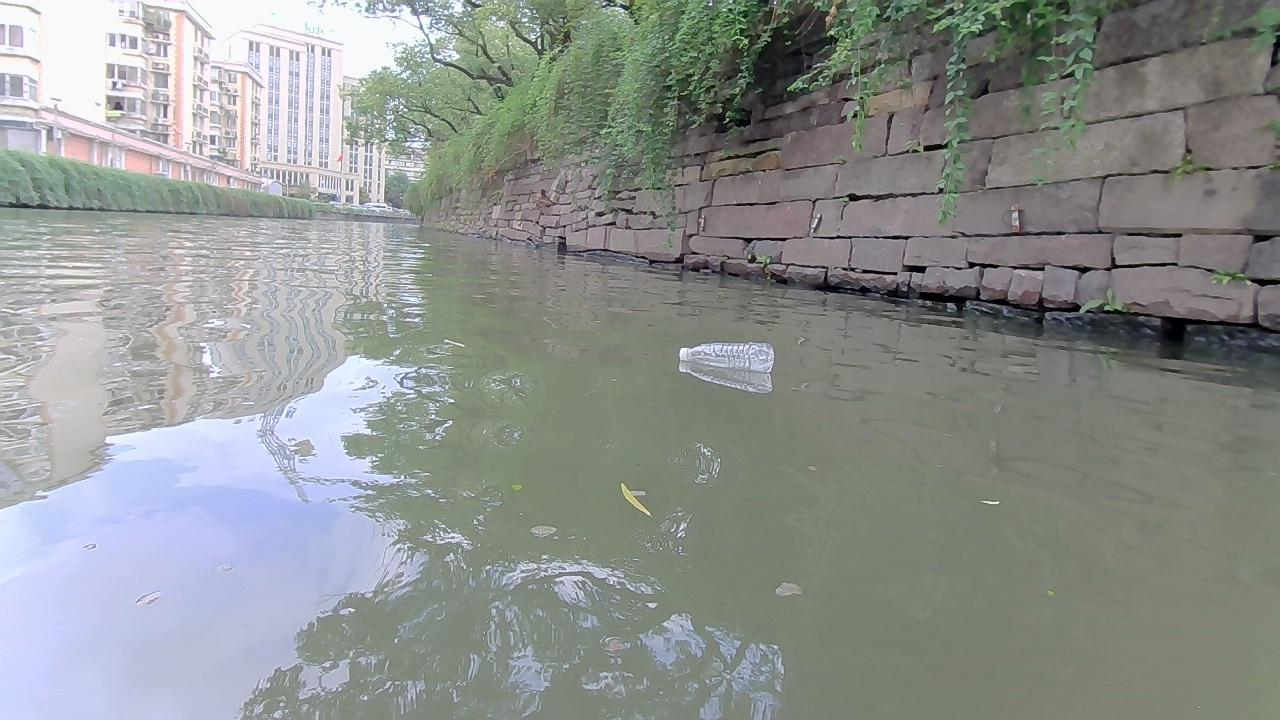bottle: (678, 340, 773, 371)
